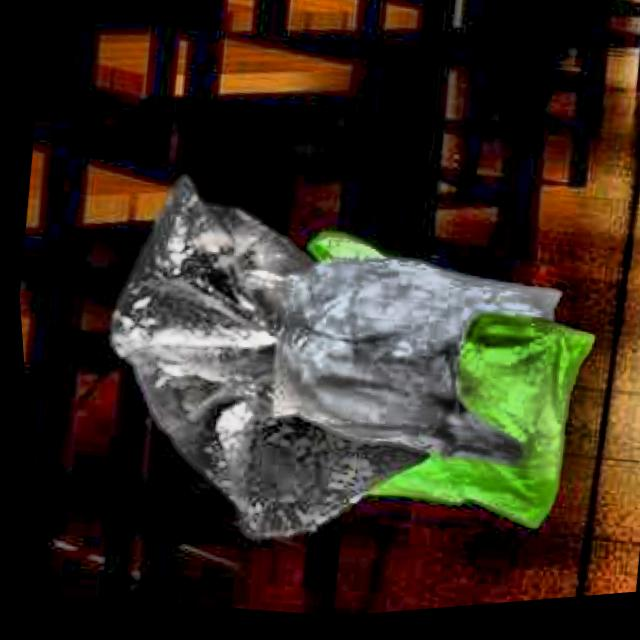Plastic: (42, 130, 509, 586), (234, 199, 625, 582), (236, 225, 575, 513)
